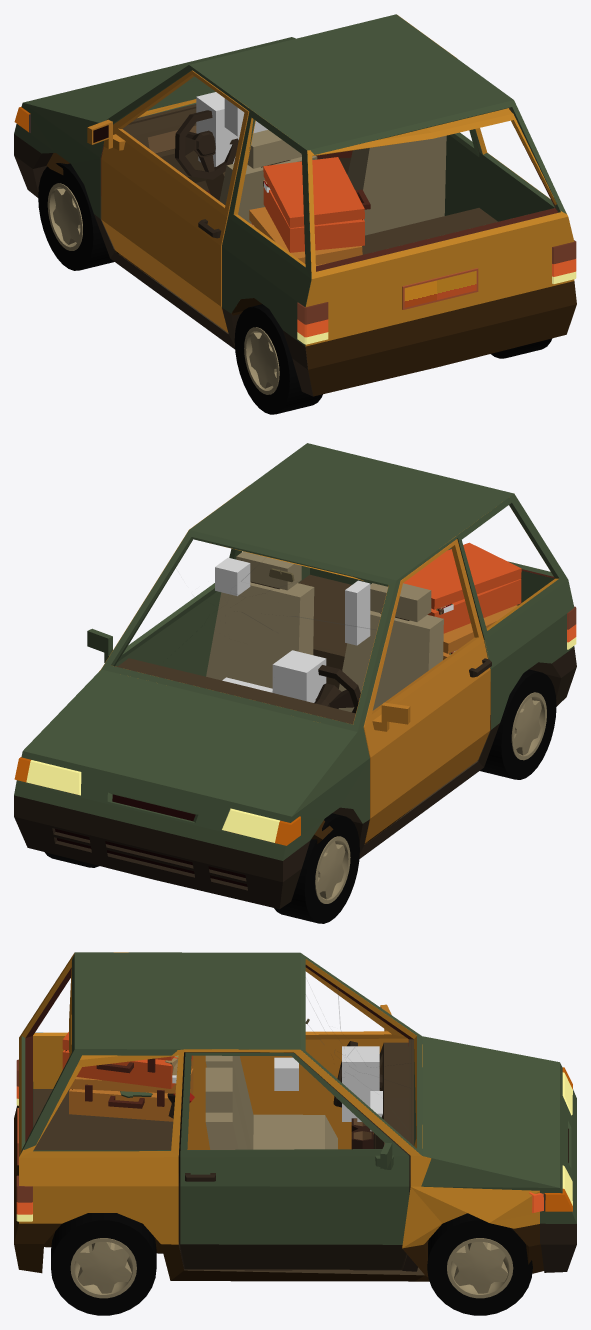
File: car.glb
3 views of the same model, one above another, from view 1: azimuth 30°, elevation 25°; view 2: azimuth 150°, elevation 25°; view 3: azimuth 270°, elevation 25° (orthographic). The views are drawn at different scales.
Parts seen in each view (by area): view 1: carBody, carBodySmashed, doorL, interior, suitcase2, wheel bl, wheel fl, doorR, steeringWheel, glowCarRearLights, free number, girlHitRadio_seePoint (+2 smaller); view 2: carBody, interior, doorL, doorR, suitcase2, wheel bl, wheel fl, glowCarHeadLights, girlHitRadio_seePoint, girl_seePoint, steeringWheel, carBodySmashed (+2 smaller); view 3: carBody, carBodySmashed, doorR, interior, wheel br, doorL, wheel fr, suitcase1, suitcase2, girlHitRadio_seePoint, glowCarHeadLights, head (+2 smaller).
Boxes of the visible parts, x1=… form: carBody: x1=14, y1=14, x2=566, y2=396; carBodySmashed: x1=46, y1=15, x2=576, y2=396; doorL: x1=87, y1=70, x2=249, y2=332; interior: x1=122, y1=108, x2=446, y2=235; suitcase2: x1=263, y1=157, x2=370, y2=252; wheel bl: x1=234, y1=304, x2=322, y2=414; wheel fl: x1=38, y1=163, x2=114, y2=270; doorR: x1=444, y1=129, x2=479, y2=215; steeringWheel: x1=175, y1=110, x2=238, y2=179; glowCarRearLights: x1=297, y1=240, x2=576, y2=344; free number: x1=402, y1=268, x2=478, y2=309; girlHitRadio_seePoint: x1=196, y1=92, x2=239, y2=166; carBody: x1=14, y1=443, x2=576, y2=909; interior: x1=118, y1=551, x2=443, y2=723; doorL: x1=363, y1=539, x2=491, y2=842; doorR: x1=87, y1=540, x2=239, y2=676; suitcase2: x1=403, y1=542, x2=521, y2=633; wheel bl: x1=480, y1=669, x2=556, y2=779; wheel fl: x1=274, y1=813, x2=359, y2=923; glowCarHeadLights: x1=14, y1=757, x2=300, y2=845; girlHitRadio_seePoint: x1=272, y1=650, x2=326, y2=702; girl_seePoint: x1=345, y1=580, x2=370, y2=645; steeringWheel: x1=314, y1=665, x2=360, y2=713; carBodySmashed: x1=99, y1=485, x2=558, y2=844; carBody: x1=20, y1=952, x2=576, y2=1272; carBodySmashed: x1=14, y1=952, x2=543, y2=1281; doorR: x1=178, y1=1052, x2=410, y2=1269; interior: x1=205, y1=1042, x2=408, y2=1149; wheel br: x1=51, y1=1213, x2=156, y2=1315; doorL: x1=187, y1=967, x2=408, y2=1149; wheel fr: x1=427, y1=1213, x2=532, y2=1315; suitcase1: x1=69, y1=1056, x2=194, y2=1121; suitcase2: x1=62, y1=1032, x2=192, y2=1088; girlHitRadio_seePoint: x1=342, y1=1046, x2=379, y2=1121; glowCarHeadLights: x1=544, y1=1067, x2=572, y2=1211; head: x1=274, y1=1057, x2=298, y2=1090.
Size of what is drawn, in the model's own units: 2.18 by 1.71 by 3.46.
5 materials, 4 textured.
